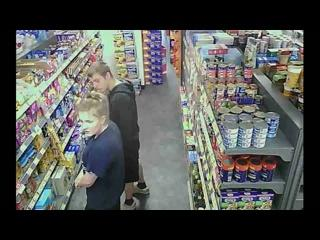Normal: (86, 61, 142, 209), (72, 91, 126, 210)
